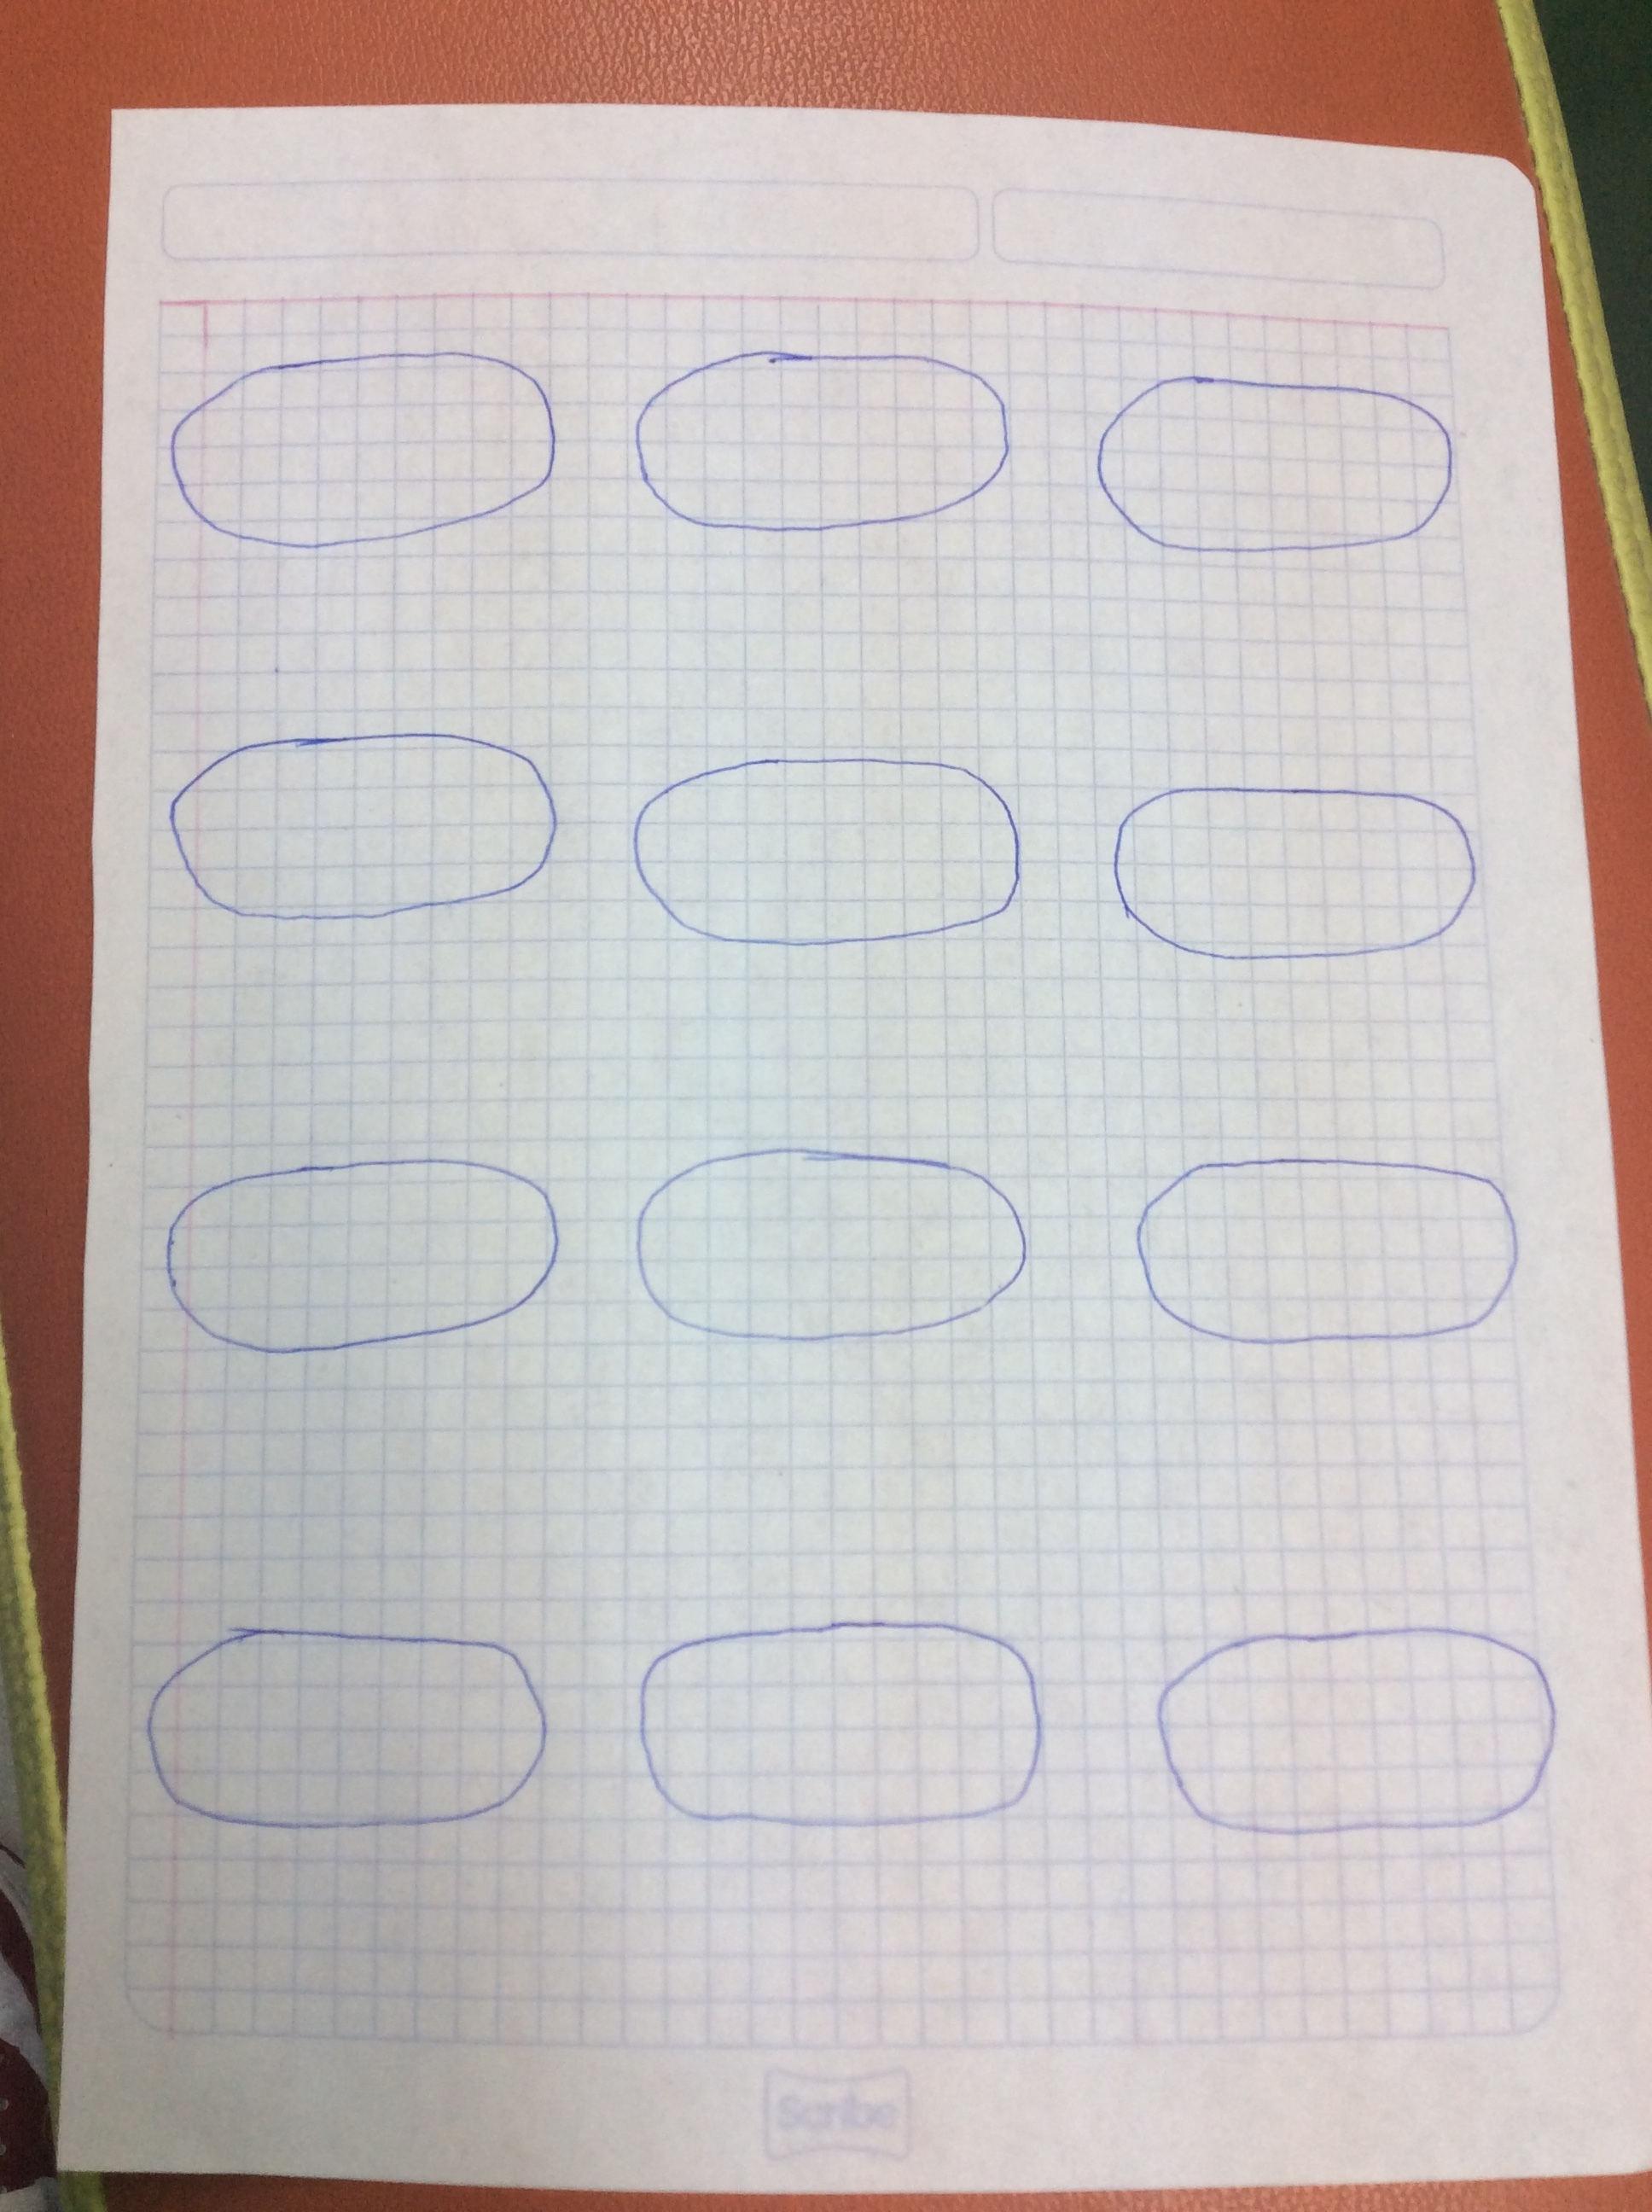start_end: (616, 1594, 1071, 1849), (139, 1598, 571, 1856), (1135, 1622, 1576, 1863), (135, 1133, 571, 1372), (619, 723, 1039, 970), (1104, 1133, 1544, 1362), (613, 324, 1032, 560), (146, 342, 578, 571), (149, 717, 581, 946), (1097, 744, 1498, 991), (616, 1140, 1053, 1358), (1078, 338, 1473, 579)
